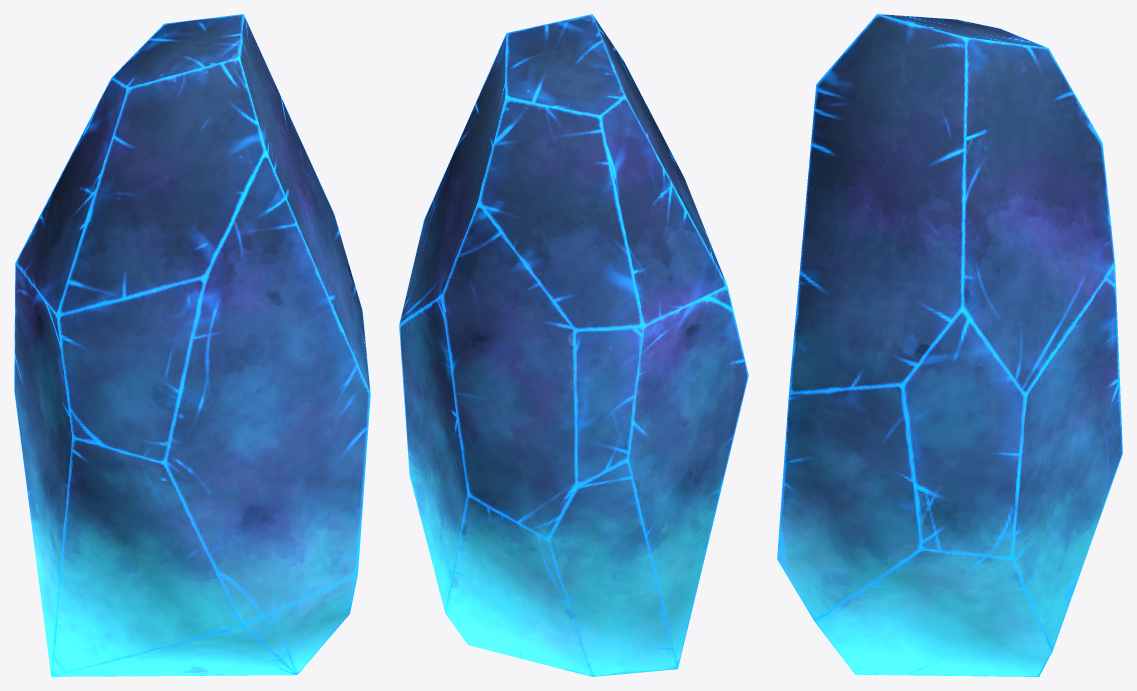
File: cristal.glb
The picture shows the model from 3 angles, left to right: view 1: azimuth 30°, elevation 25°; view 2: azimuth 150°, elevation 25°; view 3: azimuth 270°, elevation 25°; orthographic projection. The views are drawn at different scales.
Parts seen in each view (by area): view 1: 02_low_01_2; view 2: 02_low_01_2; view 3: 02_low_01_2.
Boxes of the visible parts, box(x1,y1,x2,y2) form: 02_low_01_2: box(14, 14, 370, 676); 02_low_01_2: box(399, 14, 748, 676); 02_low_01_2: box(777, 14, 1122, 676).
Bounding box in the file's own units: 0.0094 × 0.0185 × 0.00908.
Materials: 1 (1 with a texture image).
